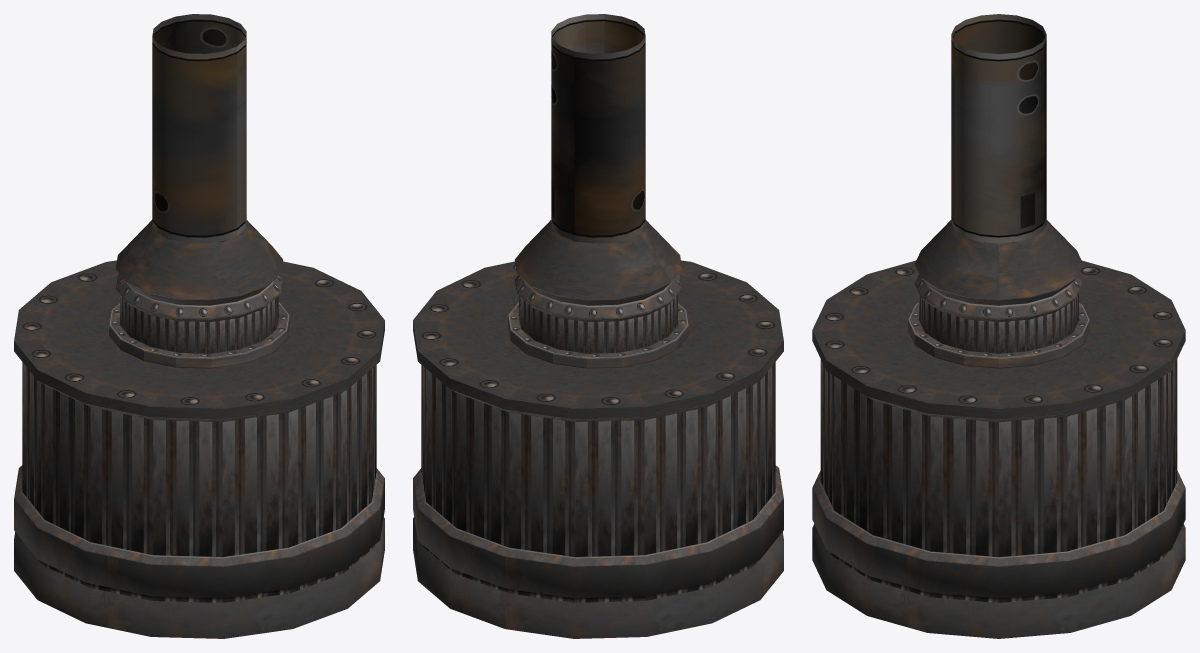
Rendered from rotary.fbx.
The picture shows the model from 3 angles, left to right: view 1: azimuth 30°, elevation 25°; view 2: azimuth 150°, elevation 25°; view 3: azimuth 270°, elevation 25°; orthographic projection.
Parts seen in each view (by area): view 1: SpinningRotary; view 2: SpinningRotary; view 3: SpinningRotary.
Part boxes in pixels (left/top/right/bottom): SpinningRotary: left=14, top=14, right=384, bottom=638; SpinningRotary: left=413, top=14, right=783, bottom=638; SpinningRotary: left=812, top=14, right=1185, bottom=638.
Size of what is drawn, in the model's own units: 711 by 1105 by 711.
